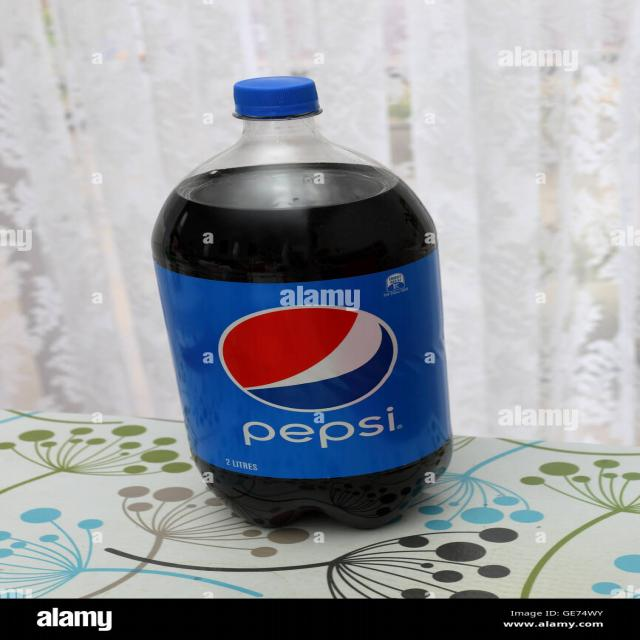Soda: (151, 76, 455, 530)
